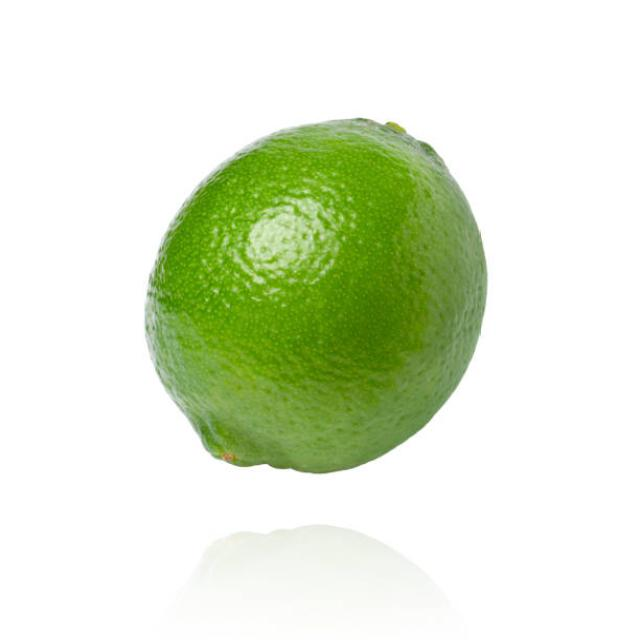Unripe: (146, 116, 488, 476)
